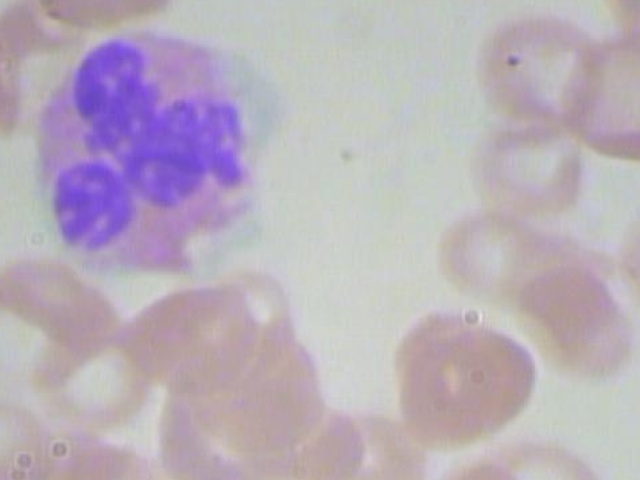WBC: (15, 27, 301, 278)
